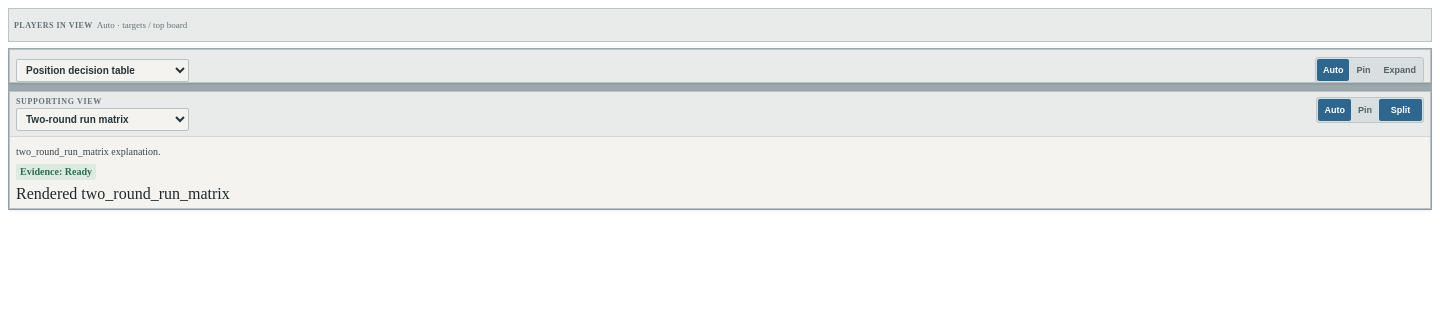
InsightDeck › reveals a manually selected compact view when the other pane was expanded
This screenshot has width=1440, height=312.
Select "Current-board projections" in the dropdown named "Decision view view" at (102, 70), box [16,58,189,82]
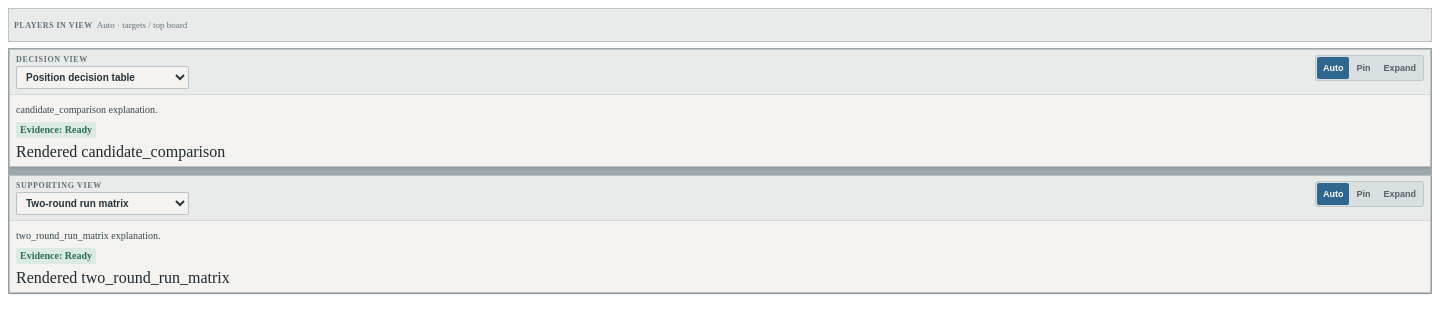
Expected: the text "Rendered two_round_run_matrix" is shown, [16,269,230,286]
Now the text "Rendered candidate_comparison" is shown, box [16,143,225,160]
